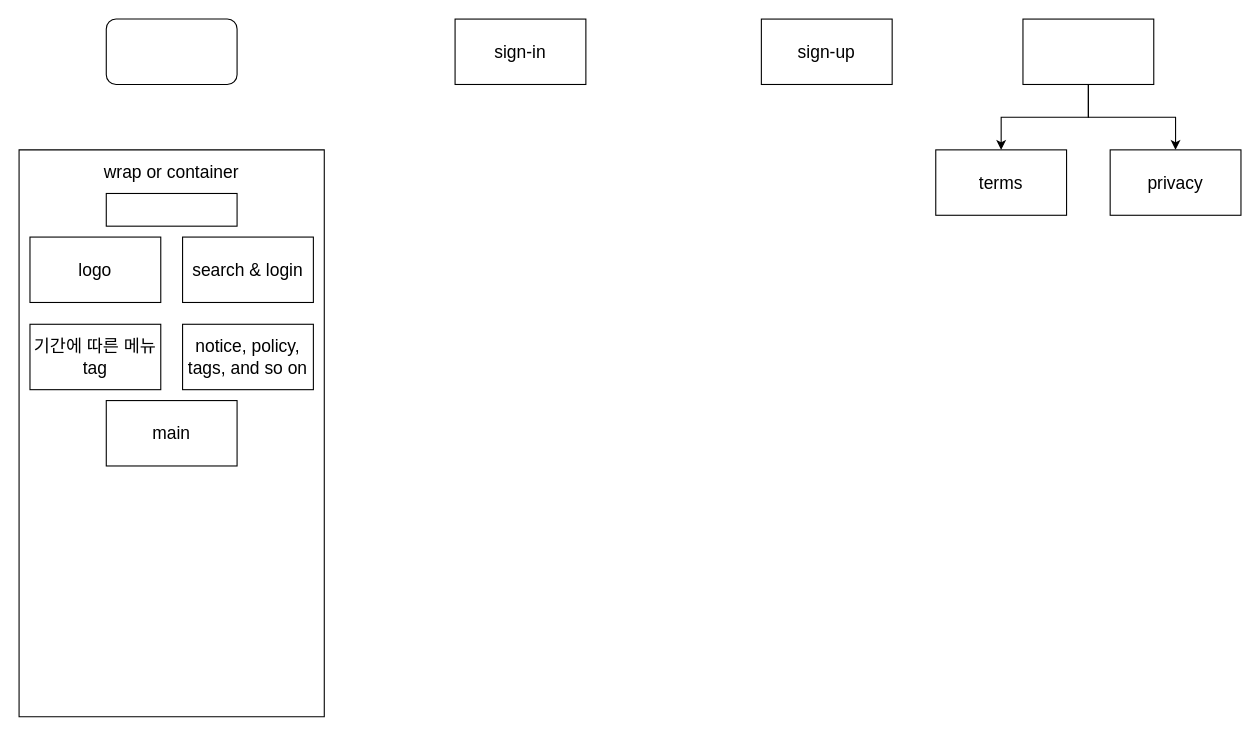
Image size: 1260x736. Some labels were removed from this diagram. The shapes that lost their labels are listed below. From the top down, each one's centre as x and y in pixels, then its label:
At point 171,51: "index".
At point 1088,51: "policy".
At point 171,209: "header".
